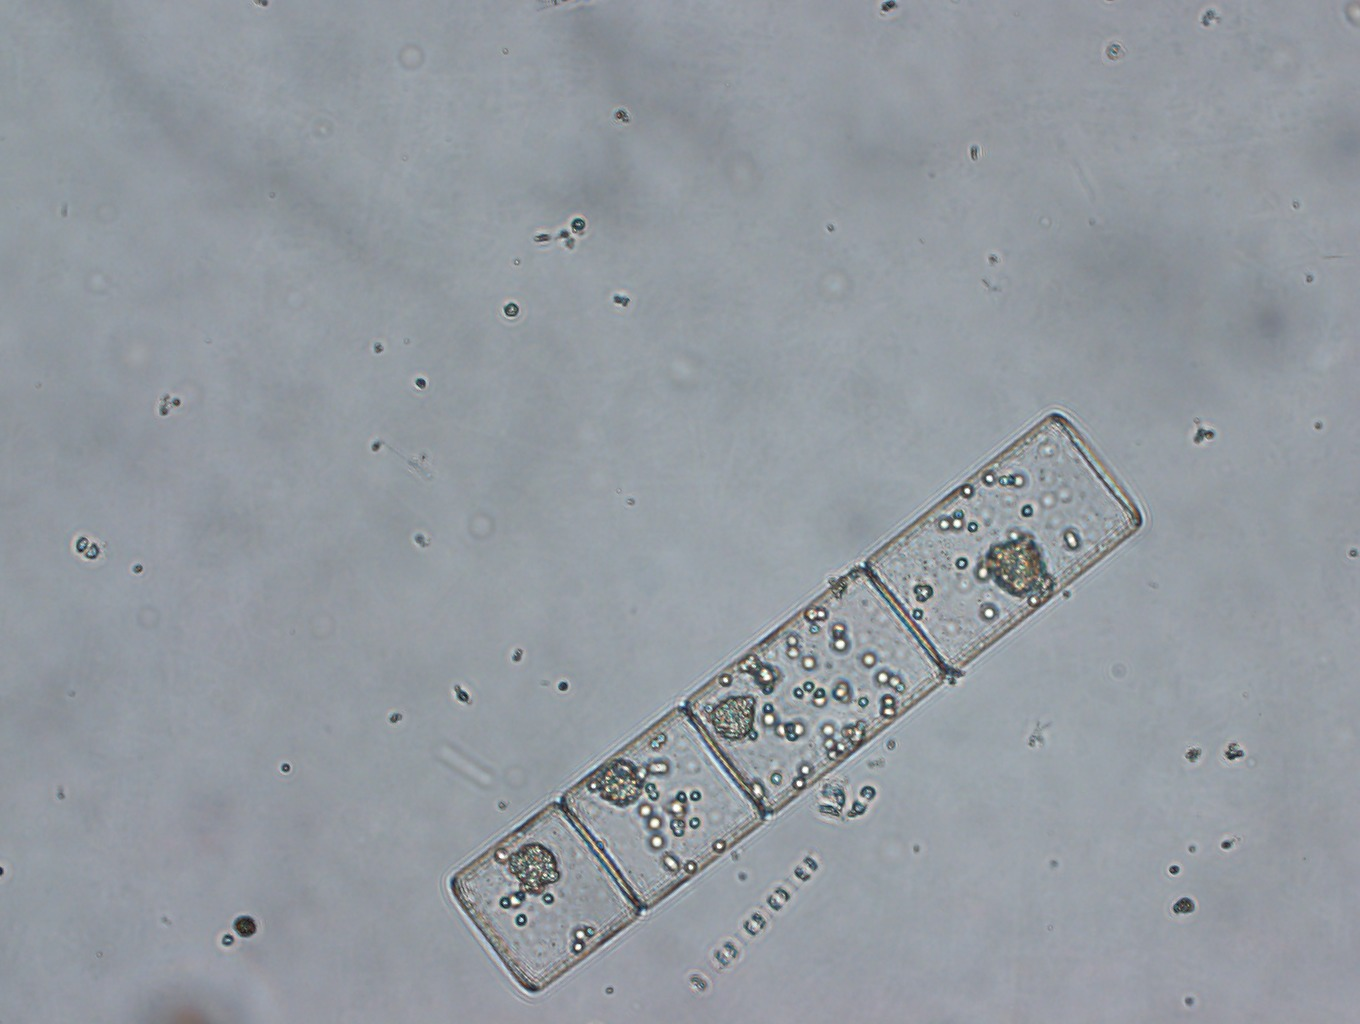guinardia flaccida: (445, 409, 1156, 1002)
